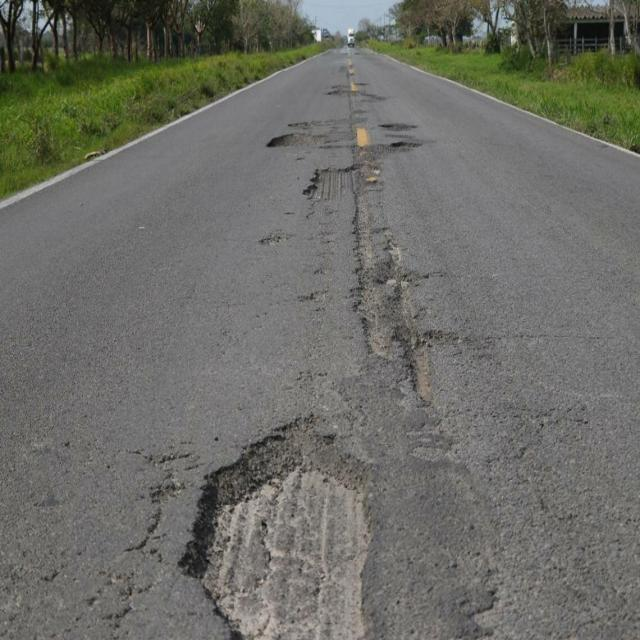Pothole: (123, 414, 507, 640), (249, 78, 466, 407)
